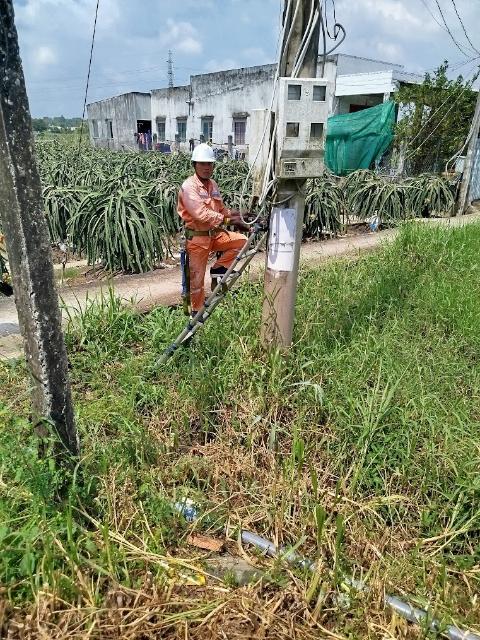gloves: (220, 209, 262, 231), (221, 202, 260, 222)
helmet: (183, 220, 228, 242), (184, 142, 221, 164)
shoes: (208, 259, 241, 283), (191, 308, 207, 328)
